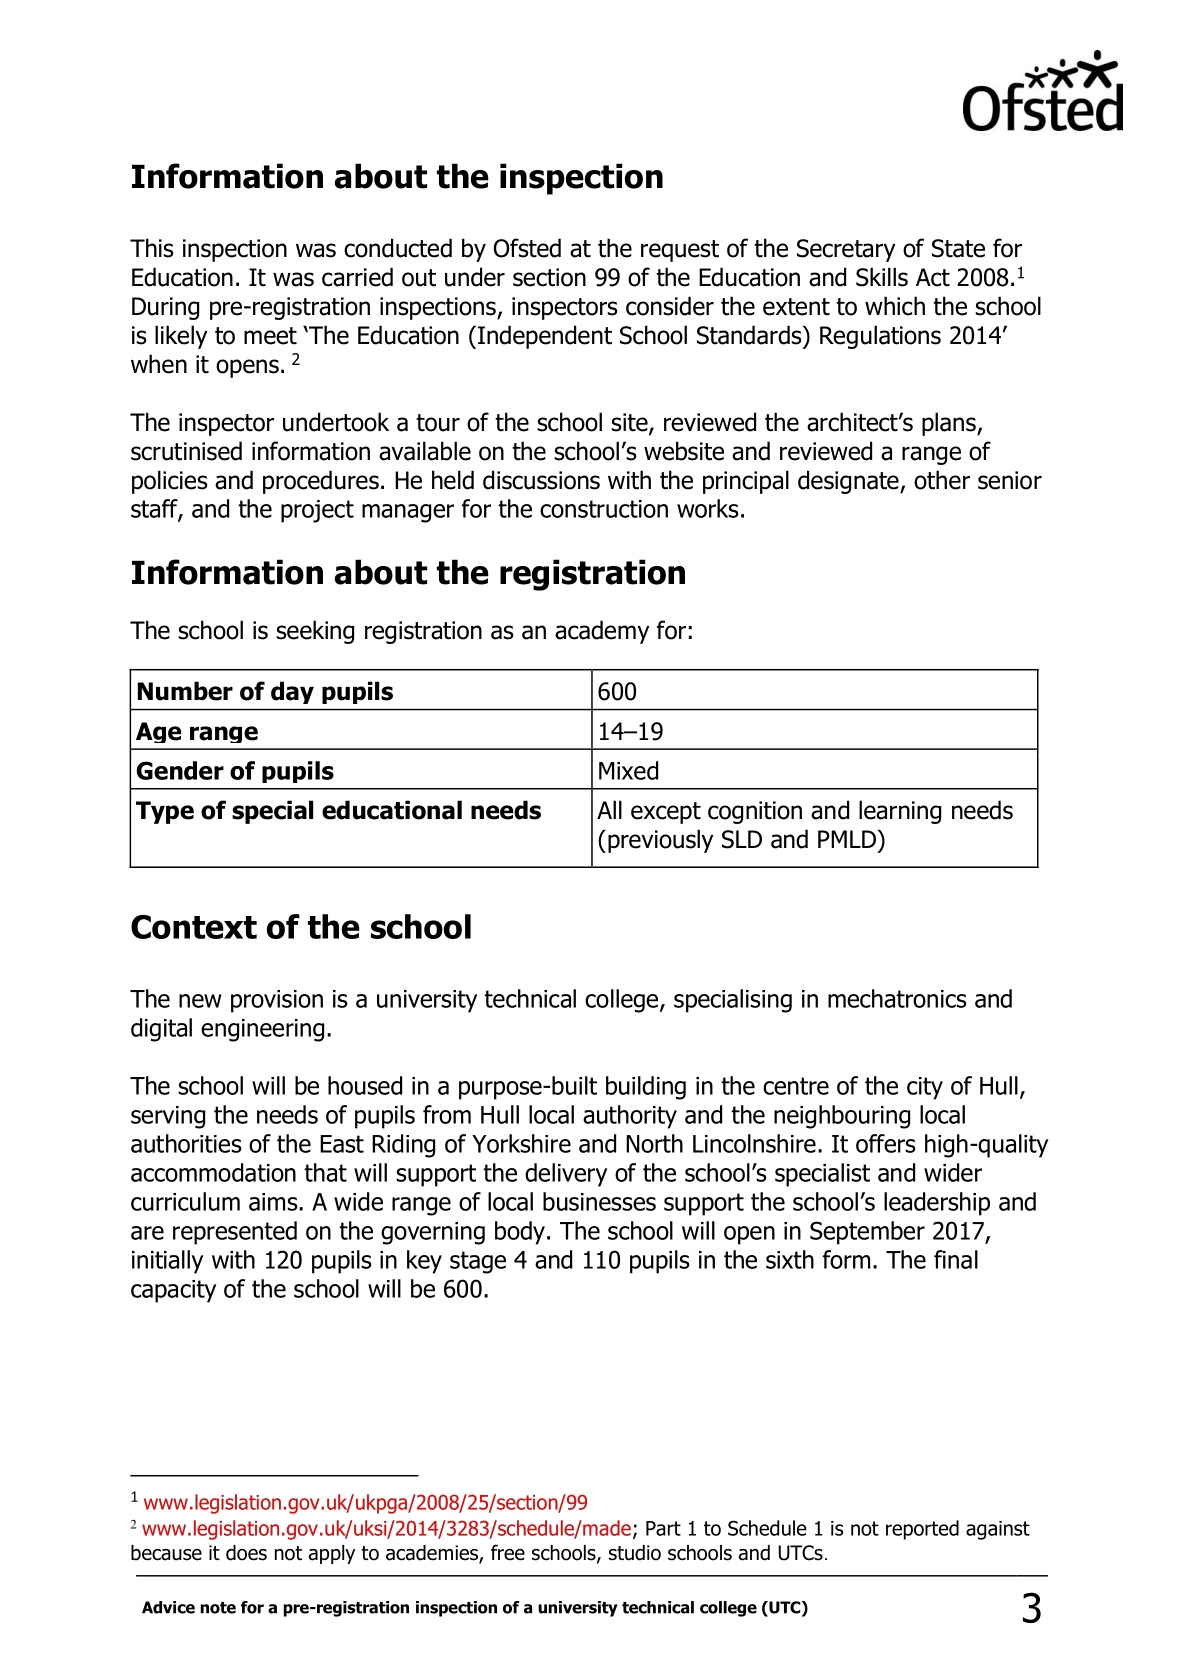full_lined: (128, 669, 1040, 870)
